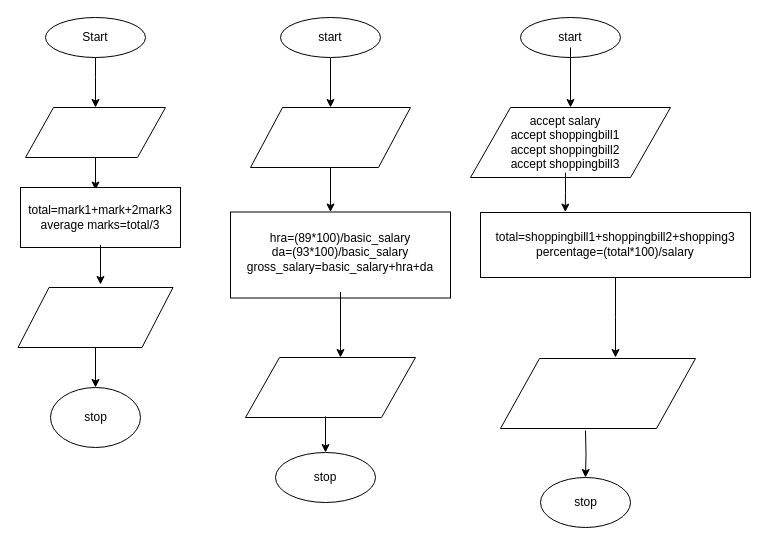
The diagram is 768 pixels wide and 545 high, and some of its shapes have lost their labels. Each missing label, with the centre of its shape:
"accept basic_salary accept gross_salary" belongs at (330,137).
"accept mark1 accept mark2 accept mark3" belongs at (95,132).
"print(hra) print(average marks)" belongs at (330,387).
"print(total) print(average marks)" belongs at (95,317).
"print(total) print(percentage)" belongs at (598,393).
